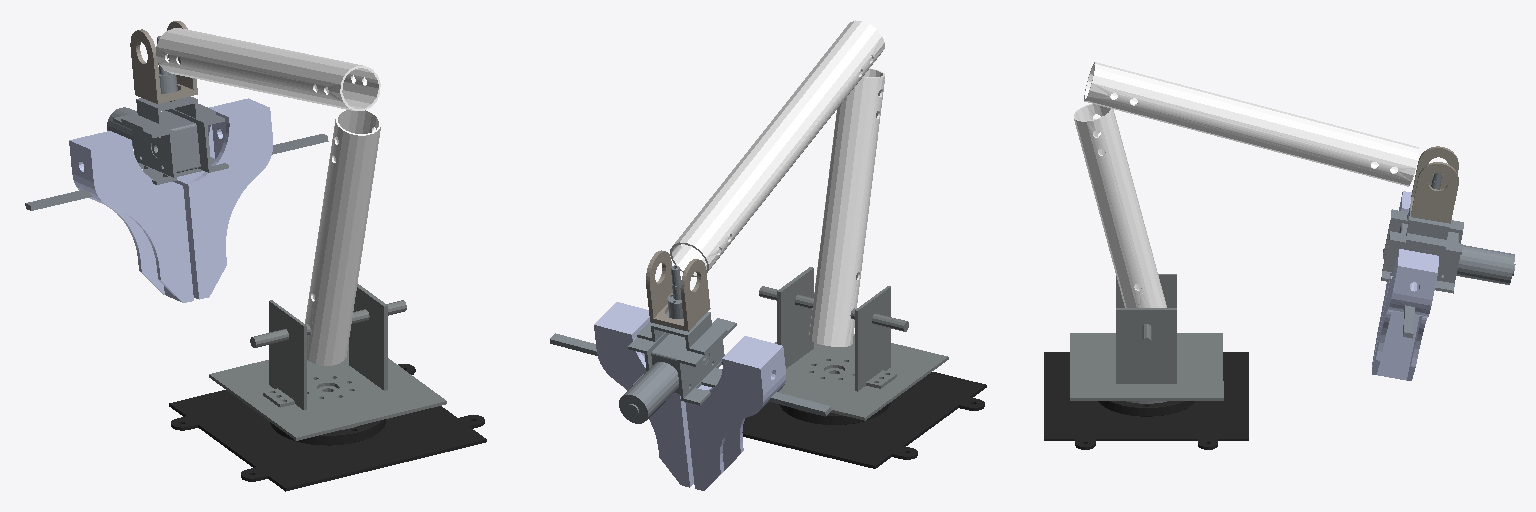
The robot description file, URDF, robot "robotic_arm_moveit_model_urdf":
<?xml version="1.0" encoding="utf-8"?>
<!-- This URDF was automatically created by SolidWorks to URDF Exporter! Originally created by [author] ([email redacted]) 
     Commit Version: 1.6.0-4-g7f85cfe  Build Version: 1.6.7995.38578
     For more information, please see http://wiki.ros.org/sw_urdf_exporter -->
<robot
  name="robotic_arm_moveit_model_urdf">
  <link
    name="base_link">
    <inertial>
      <origin
        xyz="-4.5103E-17 -2.7756E-17 0.0090027"
        rpy="0 0 0" />
      <mass
        value="0.84071" />
      <inertia
        ixx="0.0030035"
        ixy="7.7611E-20"
        ixz="-4.4384E-21"
        iyy="0.003245"
        iyz="-1.8889E-21"
        izz="0.0062462" />
    </inertial>
    <visual>
      <origin
        xyz="0 0 0"
        rpy="0 0 0" />
      <geometry>
        <mesh
          filename="package://rover_simulation/meshes/base_link.STL" />
      </geometry>
      <material
        name="">
        <color
          rgba="0.2 0.2 0.2 1" />
      </material>
    </visual>
    <collision>
      <origin
        xyz="0 0 0"
        rpy="0 0 0" />
      <geometry>
        <mesh
          filename="package://rover_simulation/meshes/base_link.STL" />
      </geometry>
    </collision>
  </link>
  <link
    name="rotating arm base link">
    <inertial>
      <origin
        xyz="0.00097977 7.9073E-07 0.04556"
        rpy="0 0 0" />
      <mass
        value="1.2987" />
      <inertia
        ixx="0.0016527"
        ixy="-2.2085E-07"
        ixz="-0.00019296"
        iyy="0.0019275"
        iyz="-1.5515E-07"
        izz="0.0028404" />
    </inertial>
    <visual>
      <origin
        xyz="0 0 0"
        rpy="0 0 0" />
      <geometry>
        <mesh
          filename="package://rover_simulation/meshes/rotating_arm_base_link.STL" />
      </geometry>
      <material
        name="">
        <color
          rgba="0.52941 0.54902 0.54902 1" />
      </material>
    </visual>
    <collision>
      <origin
        xyz="0 0 0"
        rpy="0 0 0" />
      <geometry>
        <mesh
          filename="package://rover_simulation/meshes/rotating_arm_base_link.STL" />
      </geometry>
    </collision>
  </link>
  <joint
    name="rotating arm base joint"
    type="revolute">
    <origin
      xyz="0 0 0"
      rpy="0 0 0" />
    <parent
      link="base_link" />
    <child
      link="rotating arm base link" />
    <axis
      xyz="0 0 1" />
    <limit
      lower="0"
      upper="3.142"
      effort="21"
      velocity="0.392" />
    <dynamics
      friction="0.2" />
  </joint>
  <link
    name="Arm Base Link">
    <inertial>
      <origin
        xyz="1.8869E-05 -0.022632 0.1943"
        rpy="0 0 0" />
      <mass
        value="0.10461" />
      <inertia
        ixx="0.00055894"
        ixy="2.4418E-08"
        ixz="-9.6948E-08"
        iyy="0.00052884"
        iyz="0.00012039"
        izz="6.7389E-05" />
    </inertial>
    <visual>
      <origin
        xyz="0 0 0"
        rpy="0 0 0" />
      <geometry>
        <mesh
          filename="package://rover_simulation/meshes/Arm_Base_Link.STL" />
      </geometry>
      <material
        name="">
        <color
          rgba="1 1 1 1" />
      </material>
    </visual>
    <collision>
      <origin
        xyz="0 0 0"
        rpy="0 0 0" />
      <geometry>
        <mesh
          filename="package://rover_simulation/meshes/Arm_Base_Link.STL" />
      </geometry>
    </collision>
  </link>
  <joint
    name="Arm Base Joint"
    type="revolute">
    <origin
      xyz="0 0 0"
      rpy="0 0 0" />
    <parent
      link="rotating arm base link" />
    <child
      link="Arm Base Link" />
    <axis
      xyz="1 0.000804 0" />
    <limit
      lower="-0.26"
      upper="1.134"
      effort="24.5"
      velocity="0.4" />
    <dynamics
      friction="0.2" />
  </joint>
  <link
    name="Elbow Link">
    <inertial>
      <origin
        xyz="-8.2001E-05 0.10267 0.30226"
        rpy="0 0 0" />
      <mass
        value="0.13881" />
      <inertia
        ixx="0.0012727"
        ixy="9.0606E-07"
        ixz="-2.6342E-07"
        iyy="0.00014547"
        iyz="0.00032754"
        izz="0.001177" />
    </inertial>
    <visual>
      <origin
        xyz="0 0 0"
        rpy="0 0 0" />
      <geometry>
        <mesh
          filename="package://rover_simulation/meshes/Elbow_Link.STL" />
      </geometry>
      <material
        name="">
        <color
          rgba="1 1 1 1" />
      </material>
    </visual>
    <collision>
      <origin
        xyz="0 0 0"
        rpy="0 0 0" />
      <geometry>
        <mesh
          filename="package://rover_simulation/meshes/Elbow_Link.STL" />
      </geometry>
    </collision>
  </link>
  <joint
    name="Elbow Joint"
    type="revolute">
    <origin
      xyz="0 0 0"
      rpy="0 0 0" />
    <parent
      link="Arm Base Link" />
    <child
      link="Elbow Link" />
    <axis
      xyz="-1 -0.000804 0" />
    <limit
      lower="-0.6981"
      upper="0.6981"
      effort="14.71"
      velocity="4" />
    <dynamics
      friction="0.2" />
  </joint>
  <link
    name="Gripper Link">
    <inertial>
      <origin
        xyz="-0.00022643 0.28163 0.23007"
        rpy="0 0 0" />
      <mass
        value="0.15008" />
      <inertia
        ixx="7.2706E-05"
        ixy="-1.57E-08"
        ixz="3.8828E-09"
        iyy="9.2234E-05"
        iyz="-4.8293E-06"
        izz="6.6802E-05" />
    </inertial>
    <visual>
      <origin
        xyz="0 0 0"
        rpy="0 0 0" />
      <geometry>
        <mesh
          filename="package://rover_simulation/meshes/Gripper_Link.STL" />
      </geometry>
      <material
        name="">
        <color
          rgba="0.64706 0.61961 0.58824 1" />
      </material>
    </visual>
    <collision>
      <origin
        xyz="0 0 0"
        rpy="0 0 0" />
      <geometry>
        <mesh
          filename="package://rover_simulation/meshes/Gripper_Link.STL" />
      </geometry>
    </collision>
  </link>
  <joint
    name="Gripper Joint"
    type="revolute">
    <origin
      xyz="0 0 0"
      rpy="0 0 0" />
    <parent
      link="Elbow Link" />
    <child
      link="Gripper Link" />
    <axis
      xyz="1 0.000804 0" />
    <limit
      lower="-3.142"
      upper="0"
      effort="7.845"
      velocity="4" />
    <dynamics
      friction="0.2" />
  </joint>
  <link
    name="Rotating Gripper Link">
    <inertial>
      <origin
        xyz="0.00020316 0.28586 0.16892"
        rpy="0 0 0" />
      <mass
        value="0.18525" />
      <inertia
        ixx="0.00015963"
        ixy="1.4171E-06"
        ixz="4.0205E-06"
        iyy="0.00015219"
        iyz="2.0393E-05"
        izz="0.00024539" />
    </inertial>
    <visual>
      <origin
        xyz="0 0 0"
        rpy="0 0 0" />
      <geometry>
        <mesh
          filename="package://rover_simulation/meshes/Rotating_Gripper_Link.STL" />
      </geometry>
      <material
        name="">
        <color
          rgba="0.56863 0.59608 0.62353 1" />
      </material>
    </visual>
    <collision>
      <origin
        xyz="0 0 0"
        rpy="0 0 0" />
      <geometry>
        <mesh
          filename="package://rover_simulation/meshes/Rotating_Gripper_Link.STL" />
      </geometry>
    </collision>
  </link>
  <joint
    name="Rotating Gripper Joint"
    type="revolute">
    <origin
      xyz="0 0 0"
      rpy="0 0 0" />
    <parent
      link="Gripper Link" />
    <child
      link="Rotating Gripper Link" />
    <axis
      xyz="-0.00014511 0.18049 0.98358" />
    <limit
      lower="0"
      upper="3.142"
      effort="4.903"
      velocity="3" />
    <dynamics
      friction="0.2" />
  </joint>
  <link
    name="End Effector 1">
    <inertial>
      <origin
        xyz="0.039774 0.25596 0.12811"
        rpy="0 0 0" />
      <mass
        value="0.15938" />
      <inertia
        ixx="0.00028955"
        ixy="-2.3E-05"
        ixz="-0.00013963"
        iyy="0.00037553"
        iyz="-3.8084E-05"
        izz="0.00015271" />
    </inertial>
    <visual>
      <origin
        xyz="0 0 0"
        rpy="0 0 0" />
      <geometry>
        <mesh
          filename="package://rover_simulation/meshes/End_Effector_1.STL" />
      </geometry>
      <material
        name="">
        <color
          rgba="0.79216 0.81961 0.93333 1" />
      </material>
    </visual>
    <collision>
      <origin
        xyz="0 0 0"
        rpy="0 0 0" />
      <geometry>
        <mesh
          filename="package://rover_simulation/meshes/End_Effector_1.STL" />
      </geometry>
    </collision>
  </link>
  <joint
    name="End Effector Joint 1"
    type="prismatic">
    <origin
      xyz="0 0 0"
      rpy="0 0 0" />
    <parent
      link="Rotating Gripper Link" />
    <child
      link="End Effector 1" />
    <axis
      xyz="-0.99962 0.027215 -0.0051415" />
    <limit
      lower="0"
      upper="0.06"
      effort="0.98"
      velocity="0.01" />
    <dynamics
      friction="0.2" />
  </joint>
  <link
    name="End Effector 2">
    <inertial>
      <origin
        xyz="-0.045713 0.25829 0.12767"
        rpy="0 0 0" />
      <mass
        value="0.15938" />
      <inertia
        ixx="0.00028947"
        ixy="2.8041E-05"
        ixz="0.00013875"
        iyy="0.00037275"
        iyz="-4.54E-05"
        izz="0.00015557" />
    </inertial>
    <visual>
      <origin
        xyz="0 0 0"
        rpy="0 0 0" />
      <geometry>
        <mesh
          filename="package://rover_simulation/meshes/End_Effector_2.STL" />
      </geometry>
      <material
        name="">
        <color
          rgba="0.79216 0.81961 0.93333 1" />
      </material>
    </visual>
    <collision>
      <origin
        xyz="0 0 0"
        rpy="0 0 0" />
      <geometry>
        <mesh
          filename="package://rover_simulation/meshes/End_Effector_2.STL" />
      </geometry>
    </collision>
  </link>
  <joint
    name="End effector Joint 2"
    type="prismatic">
    <origin
      xyz="0 0 0"
      rpy="0 0 0" />
    <parent
      link="Rotating Gripper Link" />
    <child
      link="End Effector 2" />
    <axis
      xyz="-0.99962 0.027215 -0.0051415" />
    <limit
      lower="0"
      upper="-0.06"
      effort="0.98"
      velocity="0.01" />
    <dynamics
      friction="0.2" />
  </joint>
</robot>

--- What the picture shows (computed from the rendered views, not written in the file) ---
The picture shows the robot from 3 angles, left to right: view 1: azimuth 30°, elevation 25°; view 2: azimuth 150°, elevation 25°; view 3: azimuth 270°, elevation 25°; orthographic projection.
Robot: robotic_arm_moveit_model_urdf — 8 links, 7 joints (5 revolute, 2 prismatic); root link base_link; default pose: all joints at 0.
Links seen in each view (by area): view 1: rotating arm base link, base_link, Arm Base Link, End Effector 2, Elbow Link, End Effector 1, Rotating Gripper Link, Gripper Link; view 2: Elbow Link, rotating arm base link, Arm Base Link, base_link, Rotating Gripper Link, End Effector 2, End Effector 1, Gripper Link; view 3: Elbow Link, rotating arm base link, base_link, Arm Base Link, Rotating Gripper Link, End Effector 1, Gripper Link.
Link boxes in pixels (box(x1,y1,x2,y2)): rotating arm base link: box(209, 284, 446, 440); base_link: box(169, 364, 486, 491); Arm Base Link: box(305, 109, 380, 365); End Effector 2: box(69, 131, 193, 302); Elbow Link: box(156, 28, 380, 110); End Effector 1: box(173, 98, 272, 299); Rotating Gripper Link: box(25, 36, 328, 210); Gripper Link: box(130, 21, 197, 103); Elbow Link: box(670, 20, 884, 276); rotating arm base link: box(759, 267, 948, 420); Arm Base Link: box(809, 68, 884, 346); base_link: box(742, 372, 986, 468); Rotating Gripper Link: box(550, 265, 831, 423); End Effector 2: box(685, 336, 785, 490); End Effector 1: box(594, 302, 693, 487); Gripper Link: box(646, 250, 710, 331); Elbow Link: box(1084, 62, 1419, 186); rotating arm base link: box(1070, 274, 1223, 403); base_link: box(1044, 352, 1248, 449); Arm Base Link: box(1074, 104, 1166, 307); Rotating Gripper Link: box(1381, 173, 1515, 338); End Effector 1: box(1372, 249, 1438, 380); Gripper Link: box(1411, 146, 1458, 223).
Size in the robot's own frame: 0.2912 by 0.4605 by 0.3675 metres.
Meshes: 8 distinct files referenced, 8 mesh visuals loaded (8 binary STL).